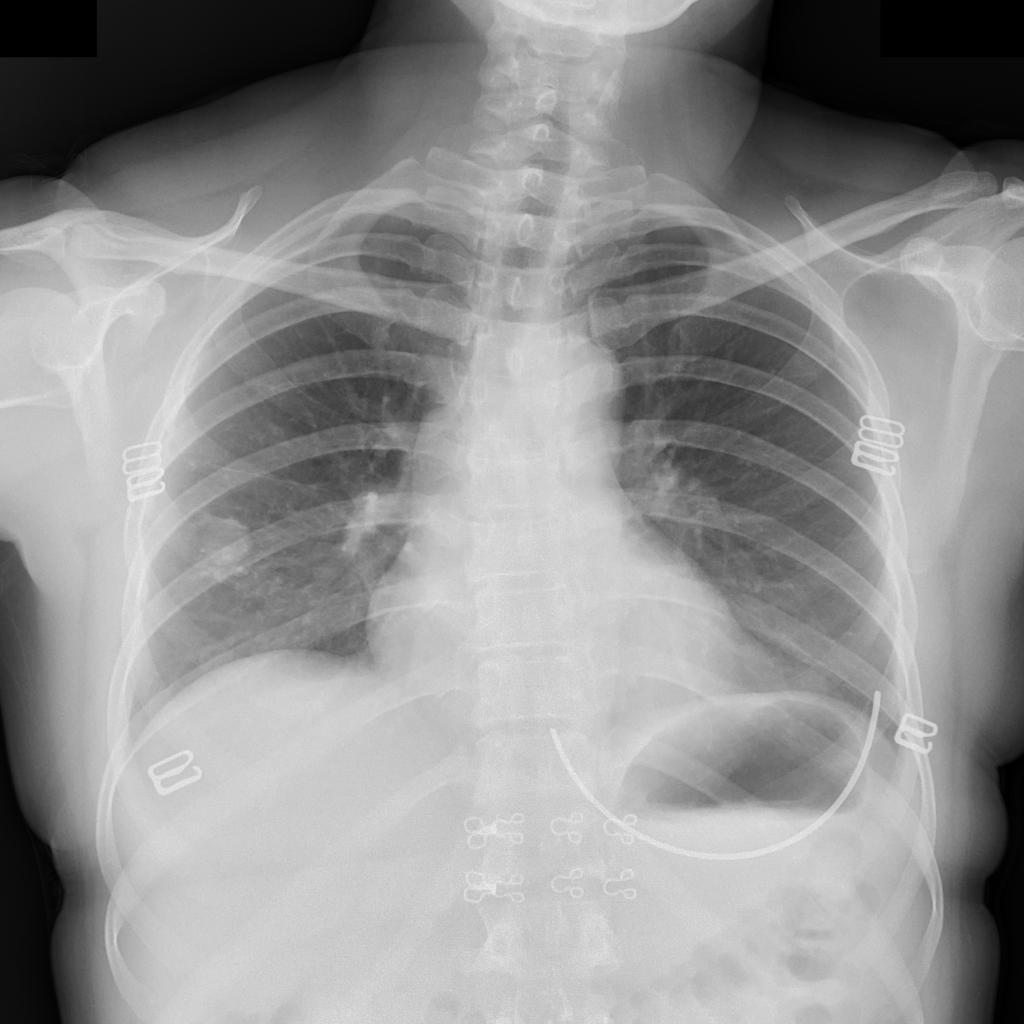Nodule: (198, 517, 251, 566)
